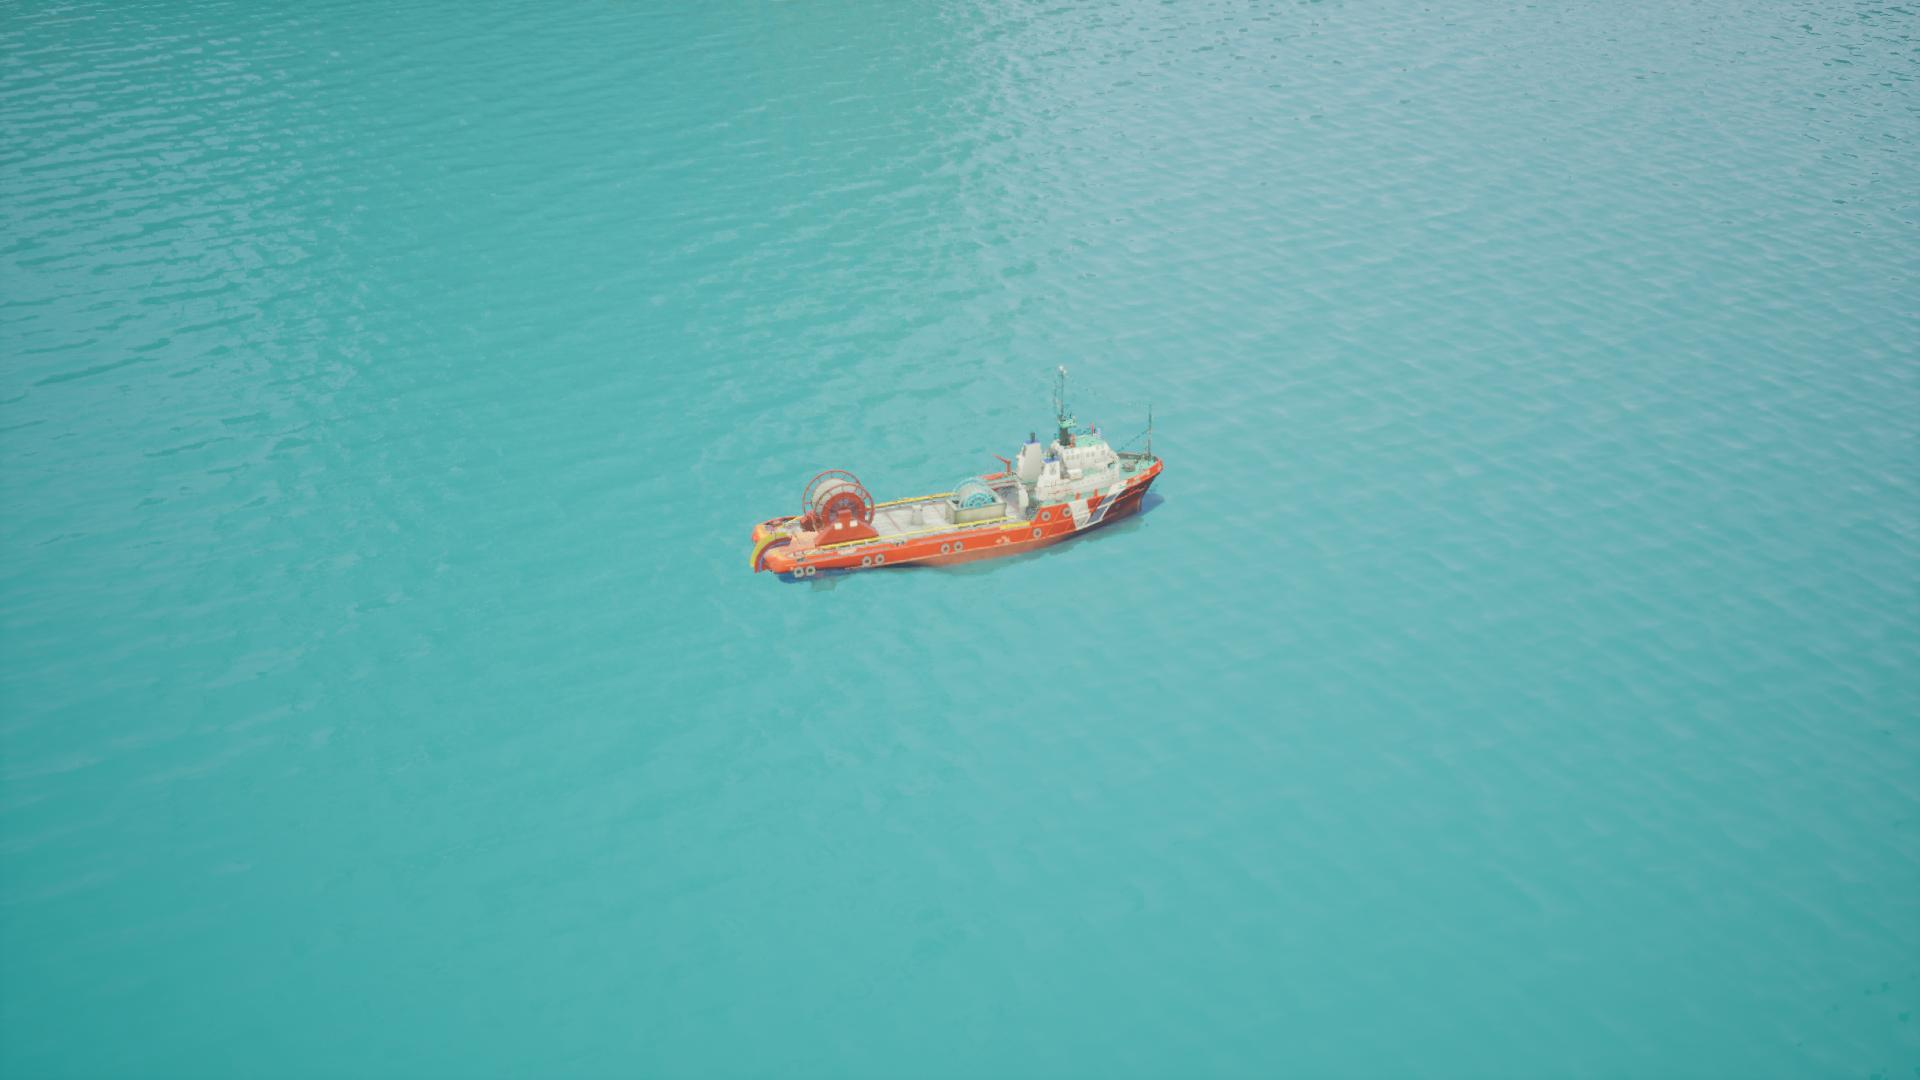Tug Boat: (749, 422, 1176, 579)
